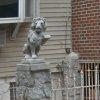Statue: (11, 10, 78, 63)
